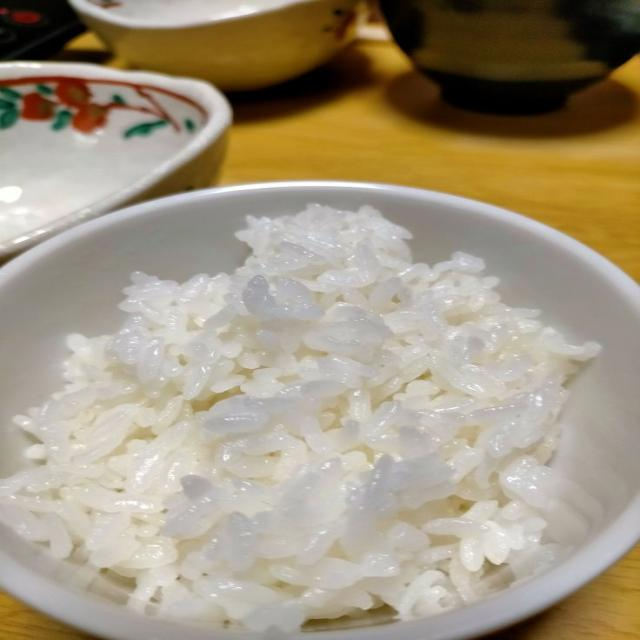rice: (0, 206, 598, 632)
